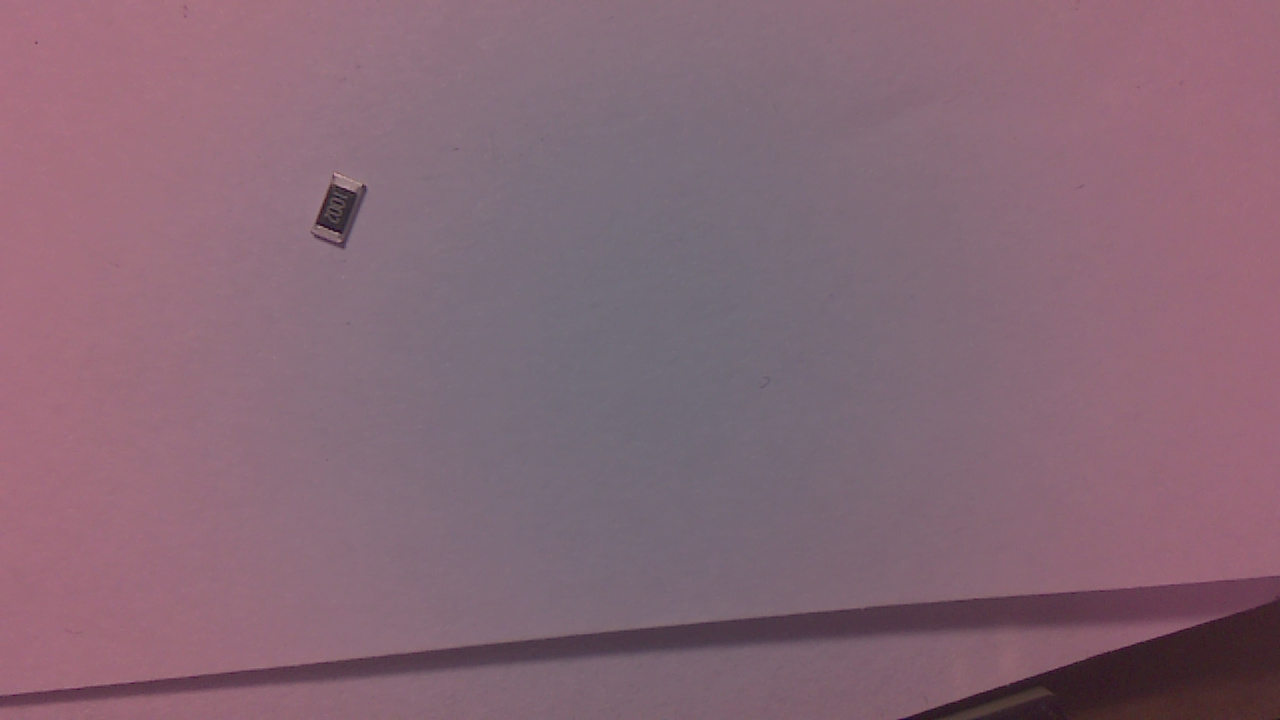Resistor: (316, 174, 376, 254)
